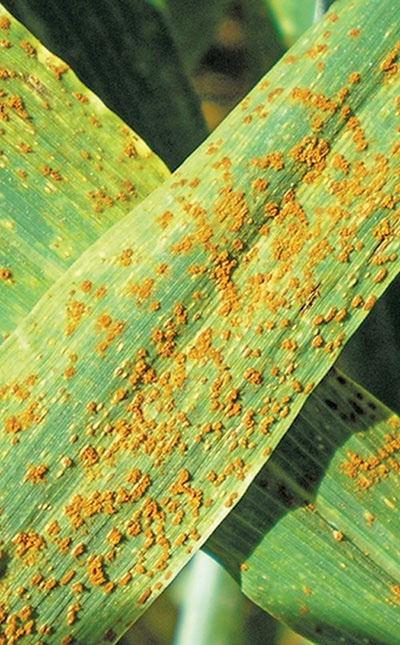Leaf Rust: (42, 114, 398, 577)
